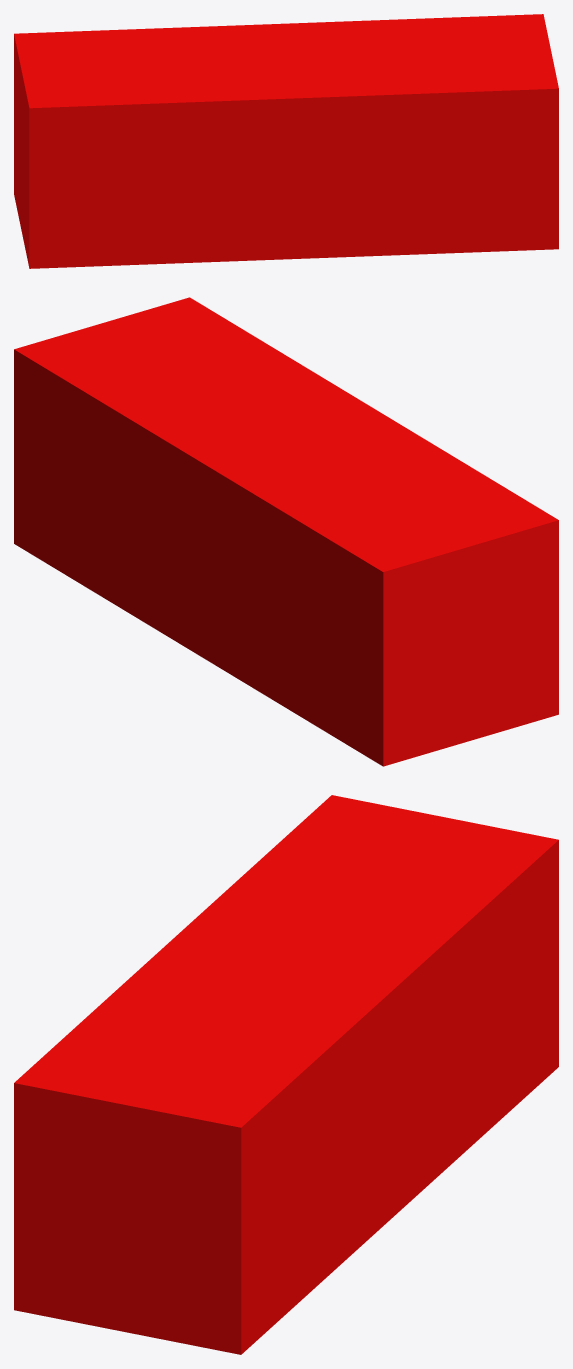
Rendered from RedCuboid3-0622.FBX.
The picture shows the model from 3 angles, top to bottom: view 1: azimuth 30°, elevation 25°; view 2: azimuth 150°, elevation 25°; view 3: azimuth 270°, elevation 25°; orthographic projection. The views are drawn at different scales.
Visible parts, largest first — view 1: RedCuboid3; view 2: RedCuboid3; view 3: RedCuboid3.
Part boxes in pixels (x1,y1,x2,y2): RedCuboid3: (14,14,558,268); RedCuboid3: (14,297,558,766); RedCuboid3: (14,795,558,1354).
Bounding box in the file's own units: 15.71 × 5 × 10.87.
